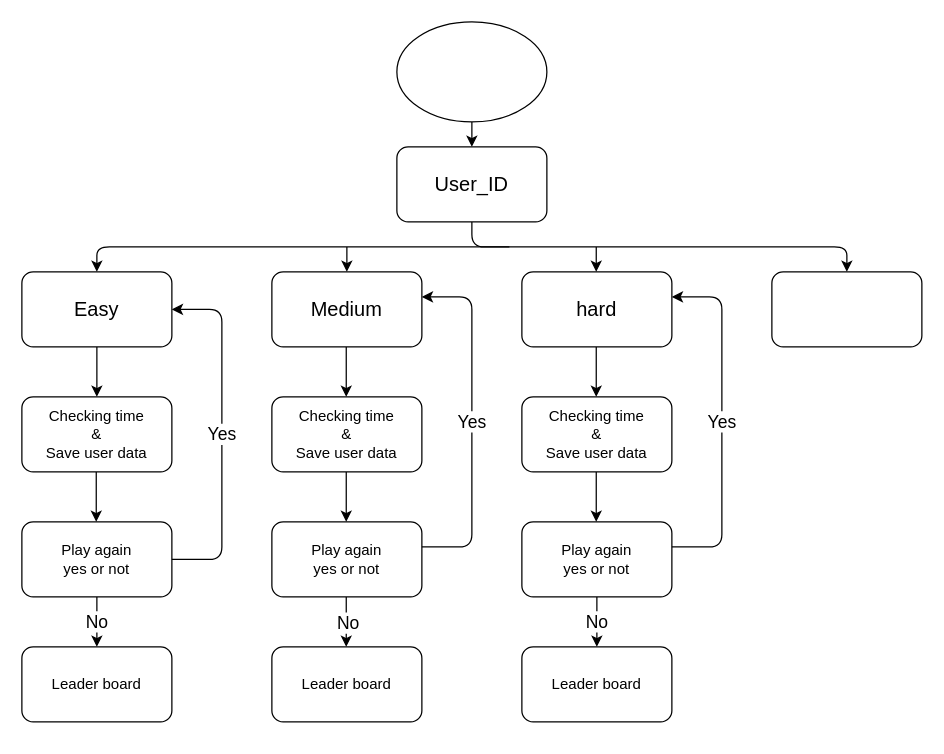
Some shapes in this 944 by 754 pixel diagram are drawn without their labels. The centre of each missing label's shape, as x and y in pixels:
quit: pixel 846 309
start: pixel 471 71
